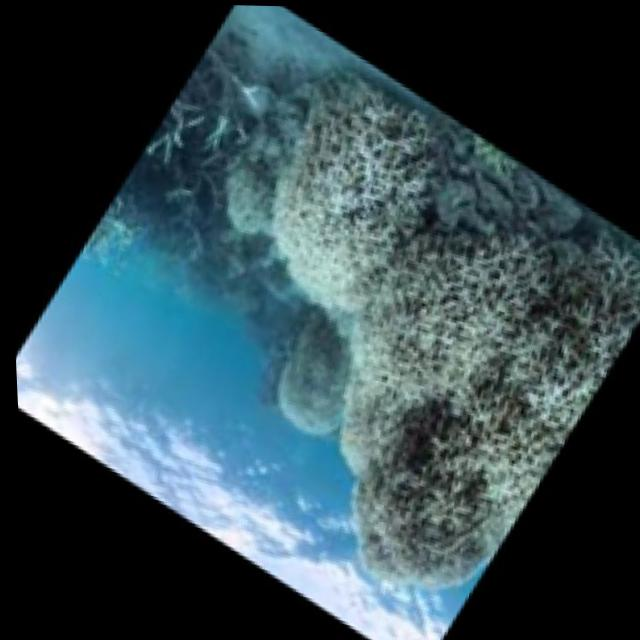Dead Coral: (334, 375, 509, 606), (107, 64, 256, 268)
